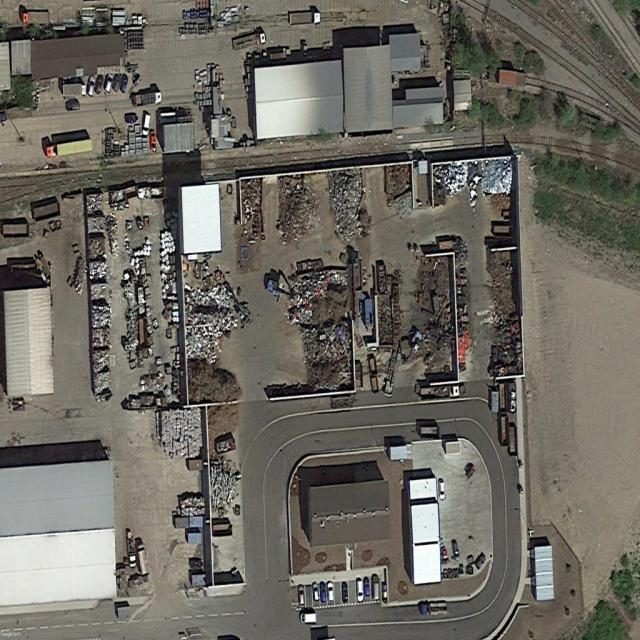dump_site: (186, 286, 247, 360), (212, 459, 245, 516), (483, 161, 514, 195), (434, 166, 468, 194)
